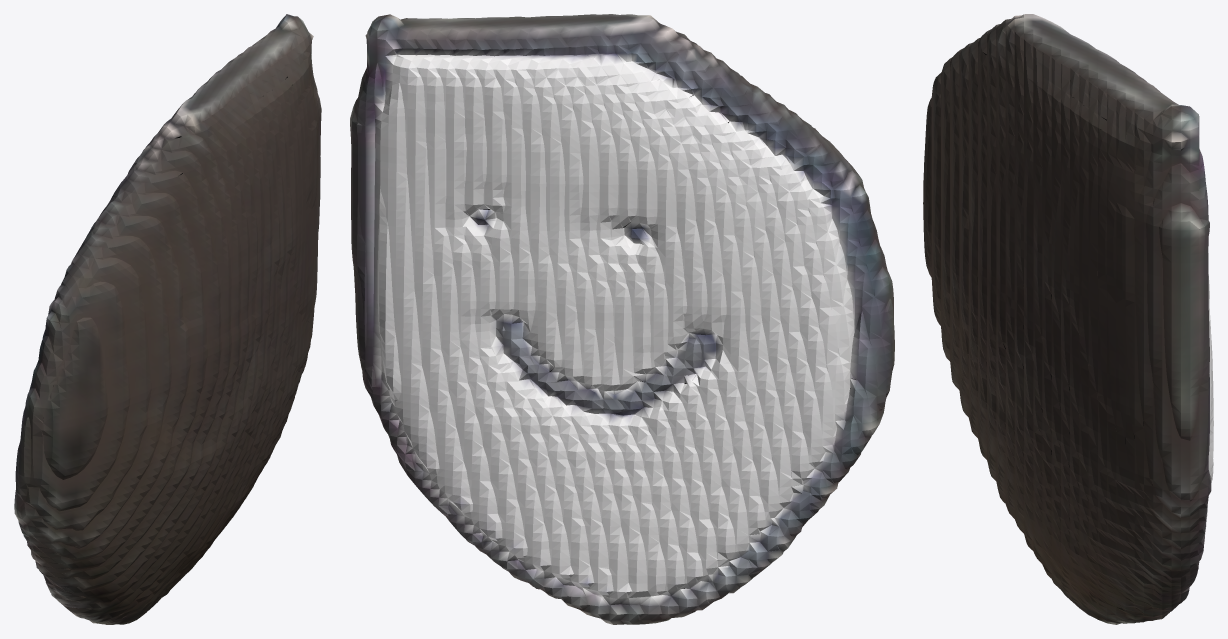
The picture shows the model from 3 angles, left to right: view 1: azimuth 30°, elevation 25°; view 2: azimuth 150°, elevation 25°; view 3: azimuth 270°, elevation 25°; orthographic projection. The views are drawn at different scales.
Parts seen in each view (by area): view 1: world; view 2: world; view 3: world.
Part boxes in pixels (x1,y1,x2,y2): world: (14,14,321,624); world: (350,14,894,624); world: (923,14,1213,624).
Size of the model in its own units: 0.7905 by 1.01 by 0.4314.
1 material, 1 textured.
